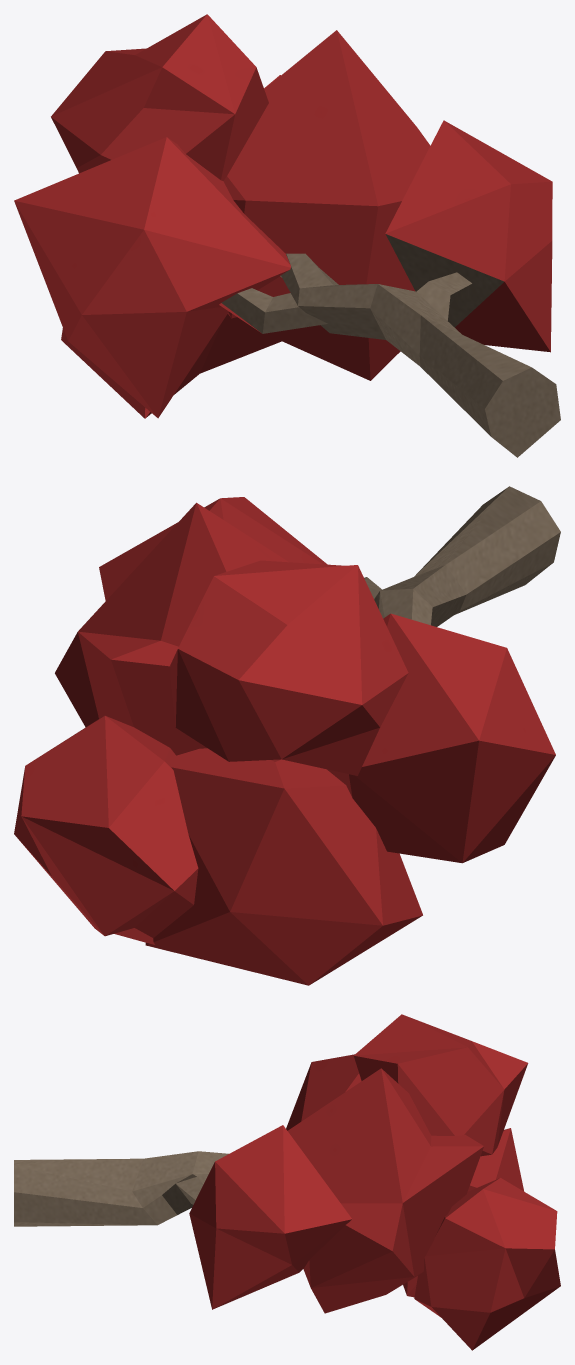
File: pink_share_tree_3.FBX
The picture shows the model from 3 angles, top to bottom: view 1: azimuth 30°, elevation 25°; view 2: azimuth 150°, elevation 25°; view 3: azimuth 270°, elevation 25°; orthographic projection. The views are drawn at different scales.
Parts seen in each view (by area): view 1: tree_14.001; view 2: tree_14.001; view 3: tree_14.001.
Boxes of the visible parts, x1=… form: tree_14.001: x1=14, y1=14, x2=560, y2=457; tree_14.001: x1=14, y1=486, x2=560, y2=985; tree_14.001: x1=14, y1=1014, x2=560, y2=1350.
Bounding box in the file's own units: 109 × 83.01 × 152.
